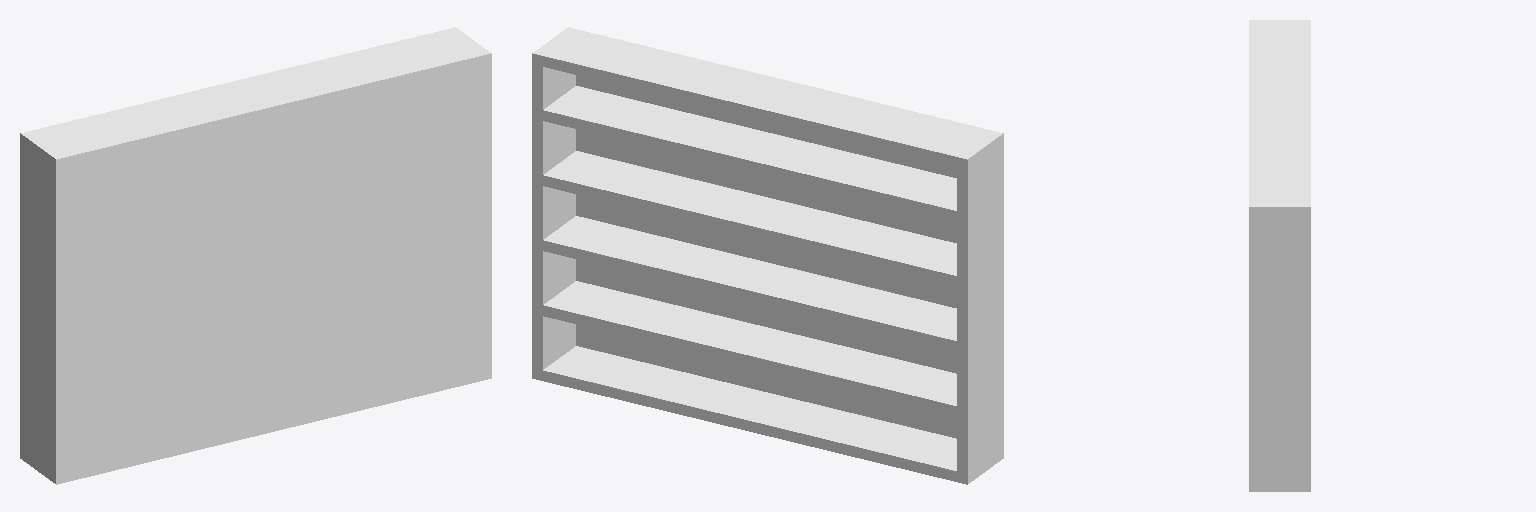
URDF robot description (bookcase):
<robot name="bookcase">

  <material name = "white">
      <color rgba="1 1 1 1"/>
  </material>

  <link name="base">
    <visual>
      <origin rpy="0 0 0" xyz="0 0 0"/>
      <geometry>
        <box size="2.0 0.3 0.05"/>
      </geometry>
      <material name = "white"/>
    </visual>
    <collision>
      <origin rpy="0 0 0" xyz="0 0 0"/>
      <geometry>
        <box size="2.0 0.3 0.05"/>
      </geometry>
    </collision>
    <inertial>
      <mass value="0.5"/>
      <inertia ixx="1" ixy="0.0" ixz="0.0" iyy="1" iyz="0.0" izz="1.0"/>
    </inertial>
  </link>

  <joint name="j0" type="fixed">
      <origin rpy="0 0 0" xyz="1 0 -0.025"/>
      <parent link="base"/>
      <child link="rightSide"/>
  </joint>

  <link name="rightSide">
    <visual>
      <origin rpy="0 0 0" xyz="0.025 0 0.75"/>
      <geometry>
        <box size="0.05 0.3 1.5"/>
      </geometry>
      <material name = "white"/>
    </visual>
    <!--<collision>
      <origin rpy="0 0 0" xyz="0 0.025 0.75"/>
      <geometry>
        <box size="0.05 0.3 1.5"/>
      </geometry>
    </collision>-->
    <inertial>
      <mass value="1"/>
      <inertia ixx="1" ixy="0.0" ixz="0.0" iyy="1" iyz="0.0" izz="1.0"/>
    </inertial>
  </link>

  <joint name="j1" type="fixed">
    <origin rpy="0 0 0" xyz="-1 0 -0.025"/>
    <parent link="base"/>
    <child link="leftSide"/>
  </joint>

  <link name="leftSide">
  <visual>
    <origin rpy="0 0 0" xyz="-0.025 0 0.75"/>
    <geometry>
      <box size="0.05 0.3 1.5"/>
    </geometry>
    <material name = "white"/>
  </visual>
  <!--<collision>
      <origin rpy="0 0 0" xyz="0 -0.025 0.75"/>
      <geometry>
        <box size="0.05 0.3 1.5"/>
      </geometry>
    </collision>-->
    <inertial>
      <mass value="1"/>
      <inertia ixx="1" ixy="0.0" ixz="0.0" iyy="1" iyz="0.0" izz="1.0"/>
    </inertial>
  </link>

  <joint name="j2" type="fixed">
    <origin rpy="0 0 0" xyz="-1 0 0.3"/>
    <parent link="leftSide"/>
    <child link="shelf1"/>
  </joint>

  <link name="shelf1">
    <visual>
      <origin rpy="0 0 0" xyz="2 0 0.025"/>
      <geometry>
        <box size="2.0 0.3 0.05"/>
      </geometry>
      <material name = "white"/>
    </visual>
    <collision>
      <origin rpy="0 0 0" xyz="2 0 0.025"/>
      <geometry>
        <box size="2.0 0.3 0.05"/>
      </geometry>
    </collision>
    <inertial>
      <mass value="0.5"/>
      <inertia ixx="1.0" ixy="0.0" ixz="0.0" iyy="1.0" iyz="0.0" izz="1.0"/>
    </inertial>
  </link>

  <joint name="j3" type="fixed">
    <origin rpy="0 0 0" xyz="-1 0 0.6"/>
    <parent link="leftSide"/>
    <child link="shelf2"/>
  </joint>

  <link name="shelf2">
    <visual>
      <origin rpy="0 0 0" xyz="2 0 0.025"/>
      <geometry>
        <box size="2.0 0.3 0.05"/>
      </geometry>
      <material name = "white"/>
    </visual>
    <collision>
      <origin rpy="0 0 0" xyz="2 0 0.025"/>
      <geometry>
        <box size="2.0 0.3 0.05"/>
      </geometry>
    </collision>
    <inertial>
      <mass value="0.5"/>
      <inertia ixx="1.0" ixy="0.0" ixz="0.0" iyy="1.0" iyz="0.0" izz="1.0"/>
    </inertial>
  </link>

  <joint name="j4" type="fixed">
    <origin rpy="0 0 0" xyz="-1 0 0.9"/>
    <parent link="leftSide"/>
    <child link="shelf3"/>
  </joint>

  <link name="shelf3">
    <visual>
      <origin rpy="0 0 0" xyz="2 0 0.025"/>
      <geometry>
        <box size="2.0 0.3 0.05"/>
      </geometry>
      <material name = "white"/>
    </visual>
    <collision>
      <origin rpy="0 0 0" xyz="2 0 0.025"/>
      <geometry>
        <box size="2.0 0.3 0.05"/>
      </geometry>
    </collision>
    <inertial>
      <mass value="0.5"/>
      <inertia ixx="1.0" ixy="0.0" ixz="0.0" iyy="1.0" iyz="0.0" izz="1.0"/>
    </inertial>
  </link>

  <joint name="j5" type="fixed">
    <origin rpy="0 0 0" xyz="-1 0 1.2"/>
    <parent link="leftSide"/>
    <child link="shelf4"/>
  </joint>

  <link name="shelf4">
    <visual>
      <origin rpy="0 0 0" xyz="2 0 0.025"/>
      <geometry>
        <box size="2.0 0.3 0.05"/>
      </geometry>
      <material name = "white"/>
    </visual>
    <collision>
      <origin rpy="0 0 0" xyz="2 0 0.025"/>
      <geometry>
        <box size="2.0 0.3 0.05"/>
      </geometry>
    </collision>
    <inertial>
      <mass value="0.5"/>
      <inertia ixx="1.0" ixy="0.0" ixz="0.0" iyy="1.0" iyz="0.0" izz="1.0"/>
    </inertial>
  </link>

  <joint name="j6" type="fixed">
    <origin rpy="0 0 0" xyz="-1 0 1.5"/>
    <parent link="leftSide"/>
    <child link="top"/>
  </joint>

  <link name="top">
    <visual>
      <origin rpy="0 0 0" xyz="2 0 -.025"/>
      <geometry>
        <box size="2.0 0.3 0.05"/>
      </geometry>
      <material name = "white"/>
    </visual>
    <collision>
      <origin rpy="0 0 0" xyz="2 0 -0.025"/>
      <geometry>
        <box size="2.0 0.3 0.05"/>
      </geometry>
    </collision>
    <inertial>
      <mass value="0.5"/>
      <inertia ixx="1.0" ixy="0.0" ixz="0.0" iyy="1.0" iyz="0.0" izz="1.0"/>
    </inertial>
  </link>

  <joint name="j7" type="fixed">
    <origin rpy="0 0 0" xyz="0 -0.15 -0.025"/>
    <parent link="base"/>
    <child link="back"/>
  </joint>

`  <link name="back">
    <visual>
      <origin rpy="0 0 0" xyz="0 .01 0.75"/>
      <geometry>
        <box size="2.1 0.02 1.5"/>
      </geometry>
      <material name = "white"/>
    </visual>
    <!--<collision>
      <origin rpy="0 0 0" xyz="0 .01 1"/>
      <geometry>
        <box size="2.1 0.02 1.5"/>
      </geometry>
    </collision>-->
    <inertial>
      <mass value="1.5"/>
      <inertia ixx="1.0" ixy="0.0" ixz="0.0" iyy="1.0" iyz="0.0" izz="1.0"/>
    </inertial>
  </link>

</robot>

--- What the picture shows (computed from the rendered views, not written in the file) ---
3 views of the same robot in one strip: view 1: azimuth 30°, elevation 25°; view 2: azimuth 150°, elevation 25°; view 3: azimuth 270°, elevation 25° (orthographic).
Robot: bookcase — 9 links, 8 joints (8 fixed); root link base; default pose: all joints at 0.
Links seen in each view (by area): view 1: back, top, leftSide, shelf1, shelf2, shelf3, shelf4, base, rightSide; view 2: back, top, base, shelf3, shelf1, shelf2, shelf4, leftSide, rightSide; view 3: rightSide, top, back.
Boxes of the visible links, x1=… form: back: x1=54, y1=53, x2=491, y2=484; top: x1=32, y1=30, x2=480, y2=167; leftSide: x1=20, y1=131, x2=66, y2=484; shelf1: x1=67, y1=305, x2=480, y2=416; shelf2: x1=67, y1=240, x2=480, y2=351; shelf3: x1=67, y1=175, x2=480, y2=286; shelf4: x1=67, y1=111, x2=480, y2=221; base: x1=67, y1=371, x2=479, y2=481; rightSide: x1=446, y1=27, x2=491, y2=380; back: x1=569, y1=28, x2=1003, y2=459; top: x1=543, y1=31, x2=991, y2=167; base: x1=543, y1=346, x2=956, y2=481; shelf3: x1=543, y1=151, x2=956, y2=286; shelf1: x1=543, y1=281, x2=956, y2=416; shelf2: x1=543, y1=216, x2=956, y2=351; shelf4: x1=543, y1=86, x2=956, y2=221; leftSide: x1=957, y1=131, x2=1003, y2=484; rightSide: x1=532, y1=27, x2=575, y2=380; rightSide: x1=1249, y1=202, x2=1310, y2=491; top: x1=1249, y1=25, x2=1310, y2=201; back: x1=1249, y1=20, x2=1252, y2=490.
Size in the robot's own frame: 2.1 by 0.3 by 1.5 metres.
Geometry: primitives only (box / cylinder / sphere), no mesh files.